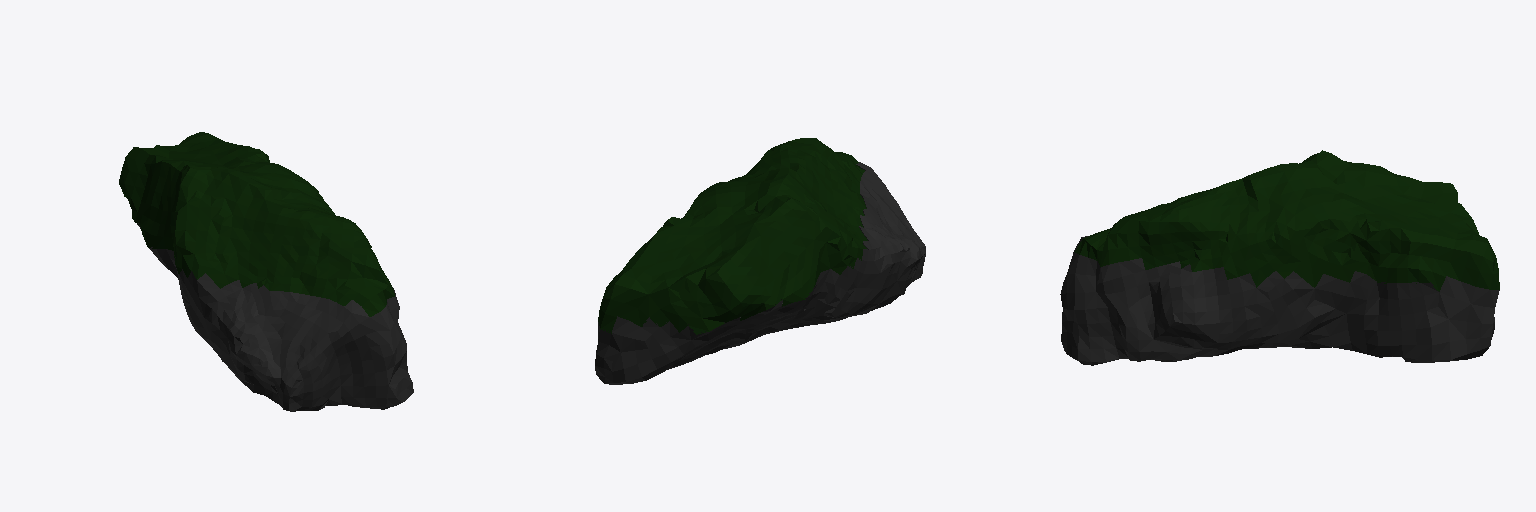
The model's file is MagicalRock1.obj.
3 renders of one model, left to right at view 1: azimuth 30°, elevation 25°; view 2: azimuth 150°, elevation 25°; view 3: azimuth 270°, elevation 25°, orthographic.
Parts seen in each view (by area): view 1: TopRock_TopRock, RockBottom_RockBottom; view 2: TopRock_TopRock, RockBottom_RockBottom; view 3: TopRock_TopRock, RockBottom_RockBottom.
Boxes of the visible parts, x1=… form: TopRock_TopRock: x1=119, y1=132, x2=394, y2=316; RockBottom_RockBottom: x1=137, y1=223, x2=413, y2=411; TopRock_TopRock: x1=598, y1=138, x2=867, y2=334; RockBottom_RockBottom: x1=595, y1=162, x2=925, y2=384; TopRock_TopRock: x1=1074, y1=150, x2=1499, y2=291; RockBottom_RockBottom: x1=1060, y1=236, x2=1499, y2=365.
Size of the model in its own units: 16.96 by 16.02 by 37.98.